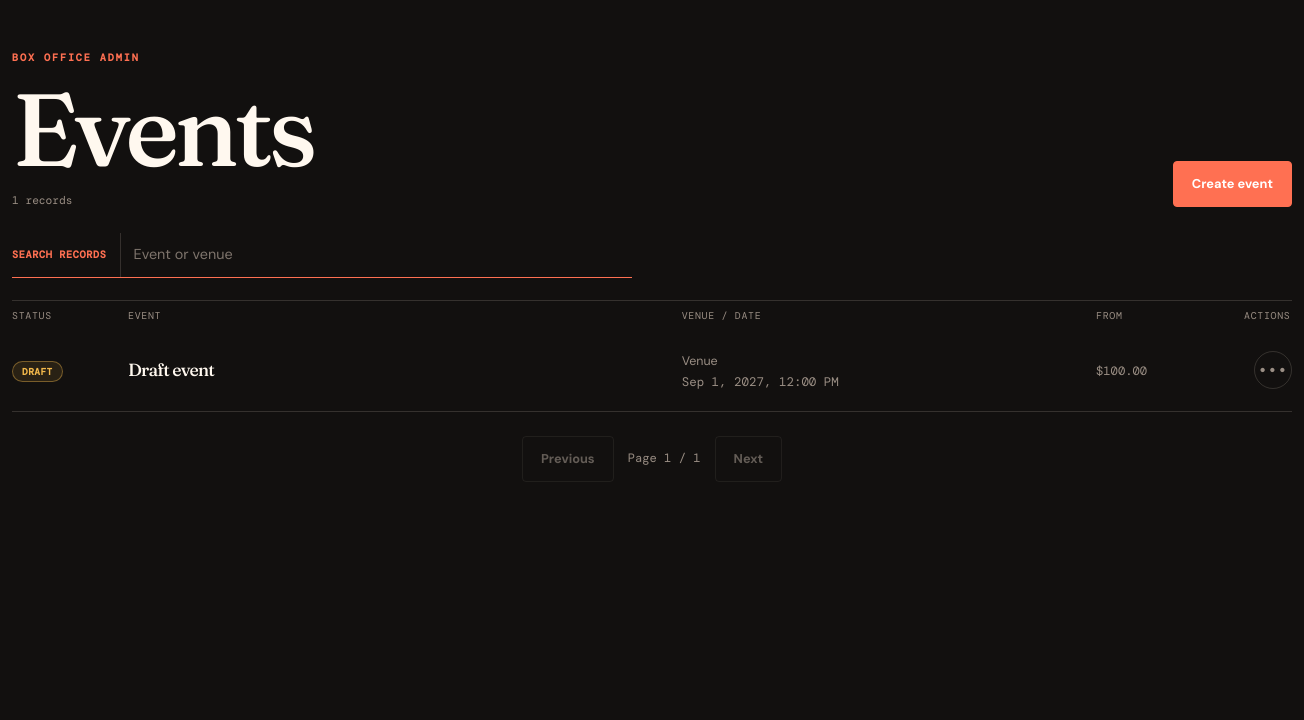
Test: AdminEventsPage › closes the action menu with Escape and an outside click
Check: the heading "Draft event" is shown, box [128,359,214,380]
Click the button named "Actions for Draft event": [1273, 370] box [1254,351,1292,389]
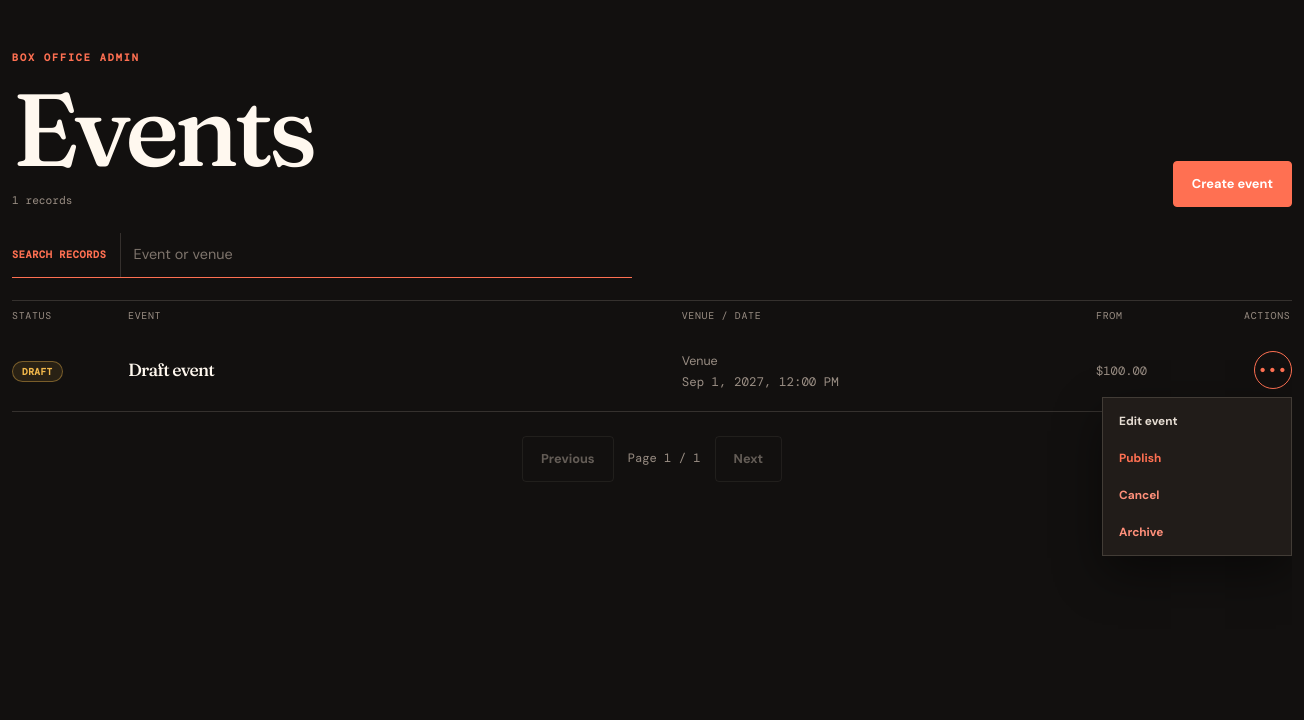
Check: the button named "Actions for Draft event" is expanded, box [1254,351,1292,389]
Press Escape
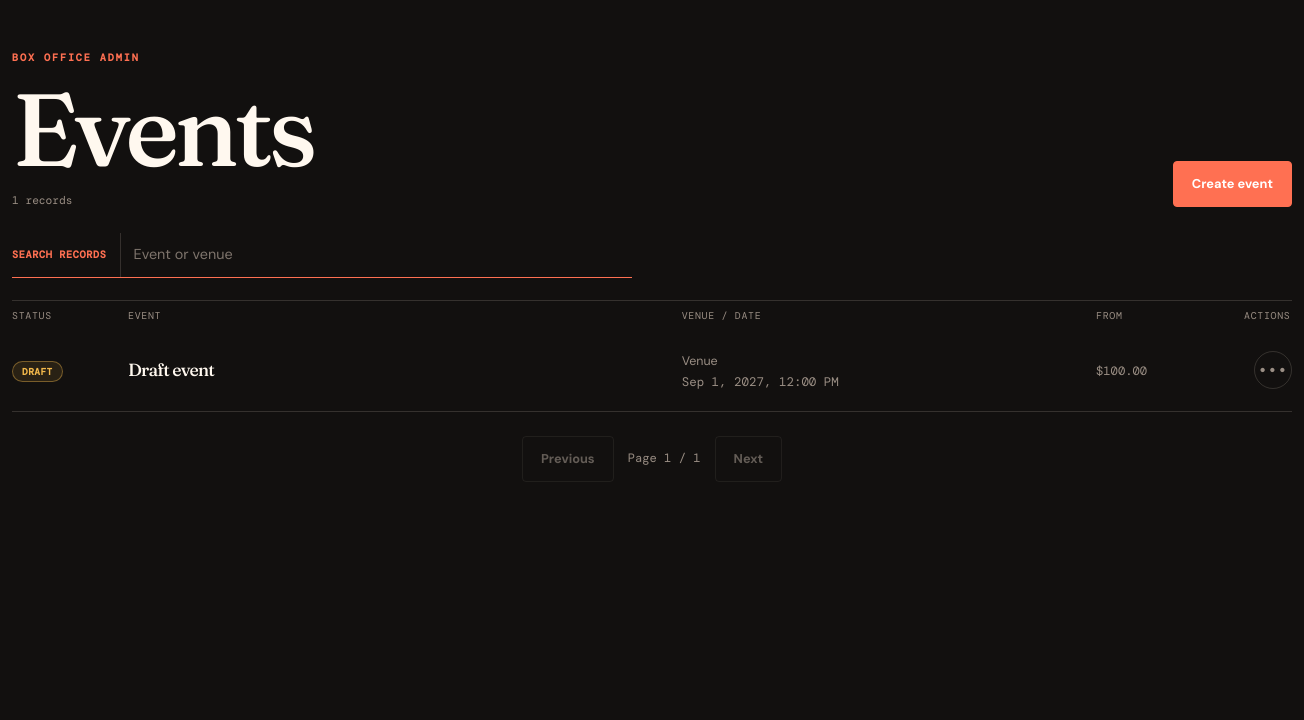
Check: the button named "Actions for Draft event" is collapsed
Click the button named "Actions for Draft event": [1273, 370] box [1254,351,1292,389]
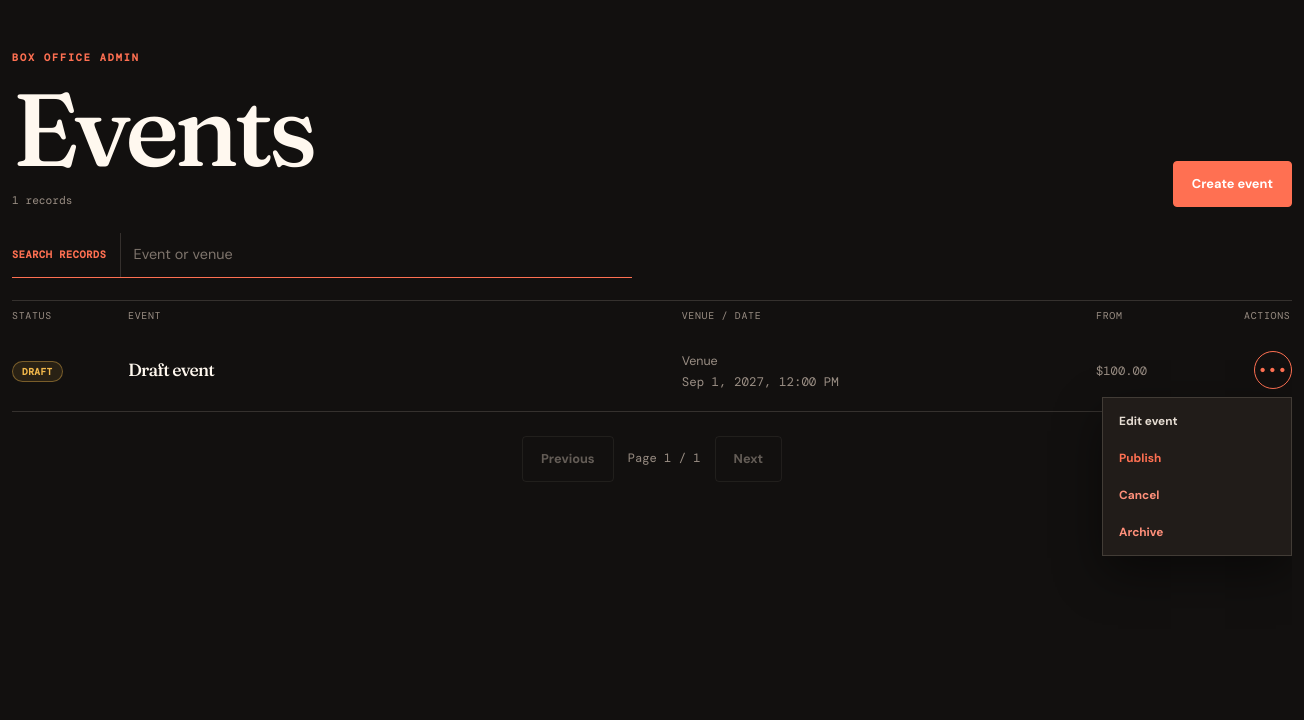
Check: the menu item "Publish" is shown, box [1109,441,1285,475]
Press the mouse on the element that starts with "BOX OFFICE ADMIN": [652, 360] box [12,0,1292,719]
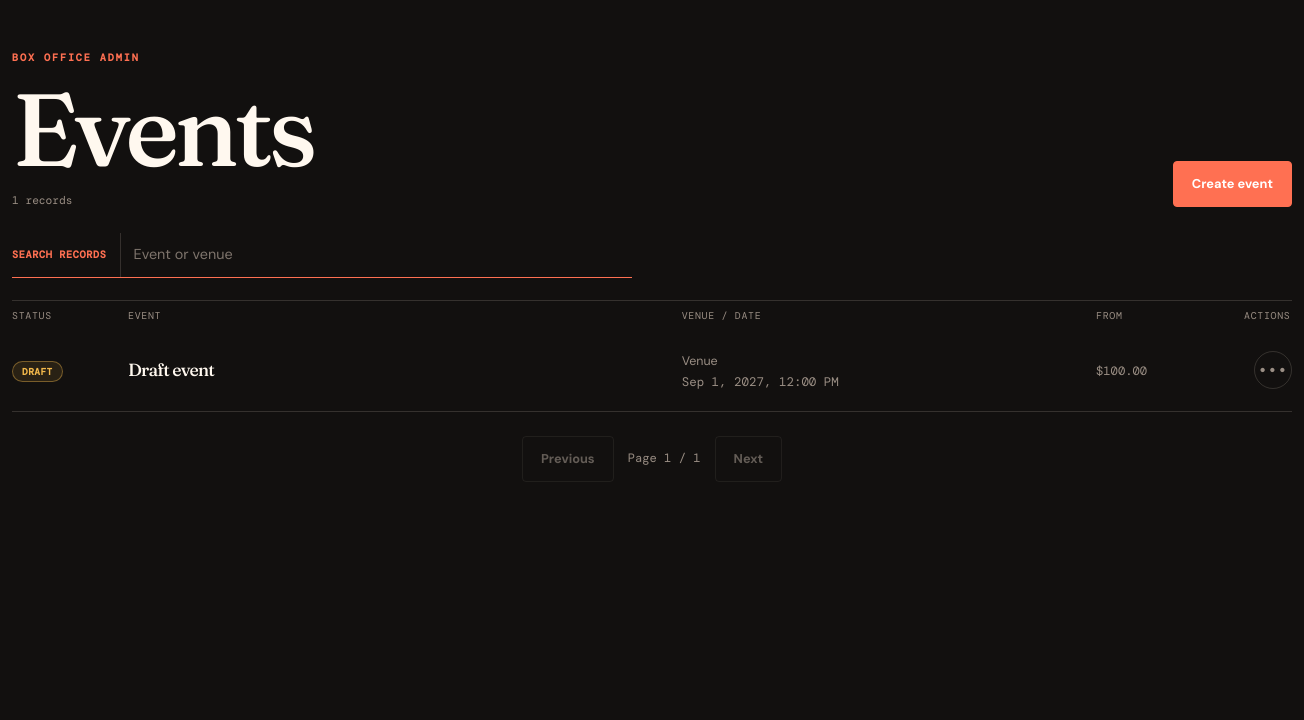
Check: the menu item "Publish" is gone
